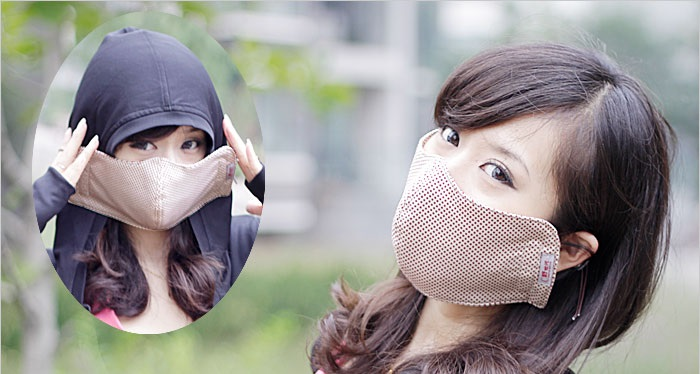face_mask: (397, 101, 565, 306), (115, 108, 213, 228)
